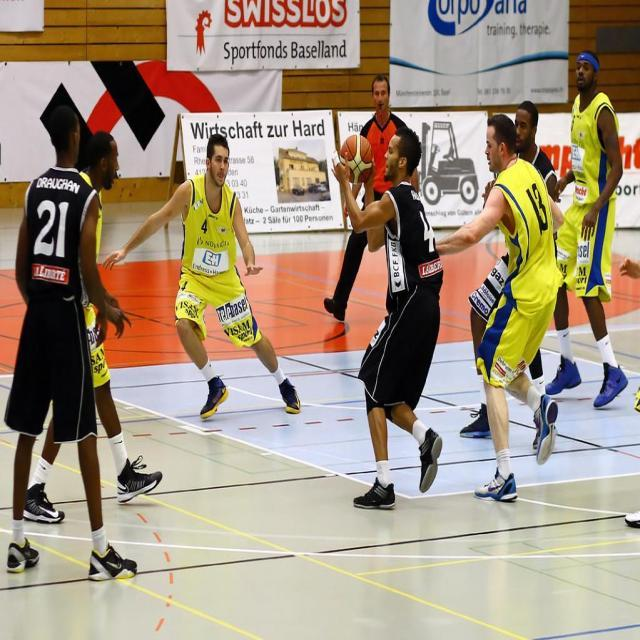rim: (338, 133, 373, 188)
